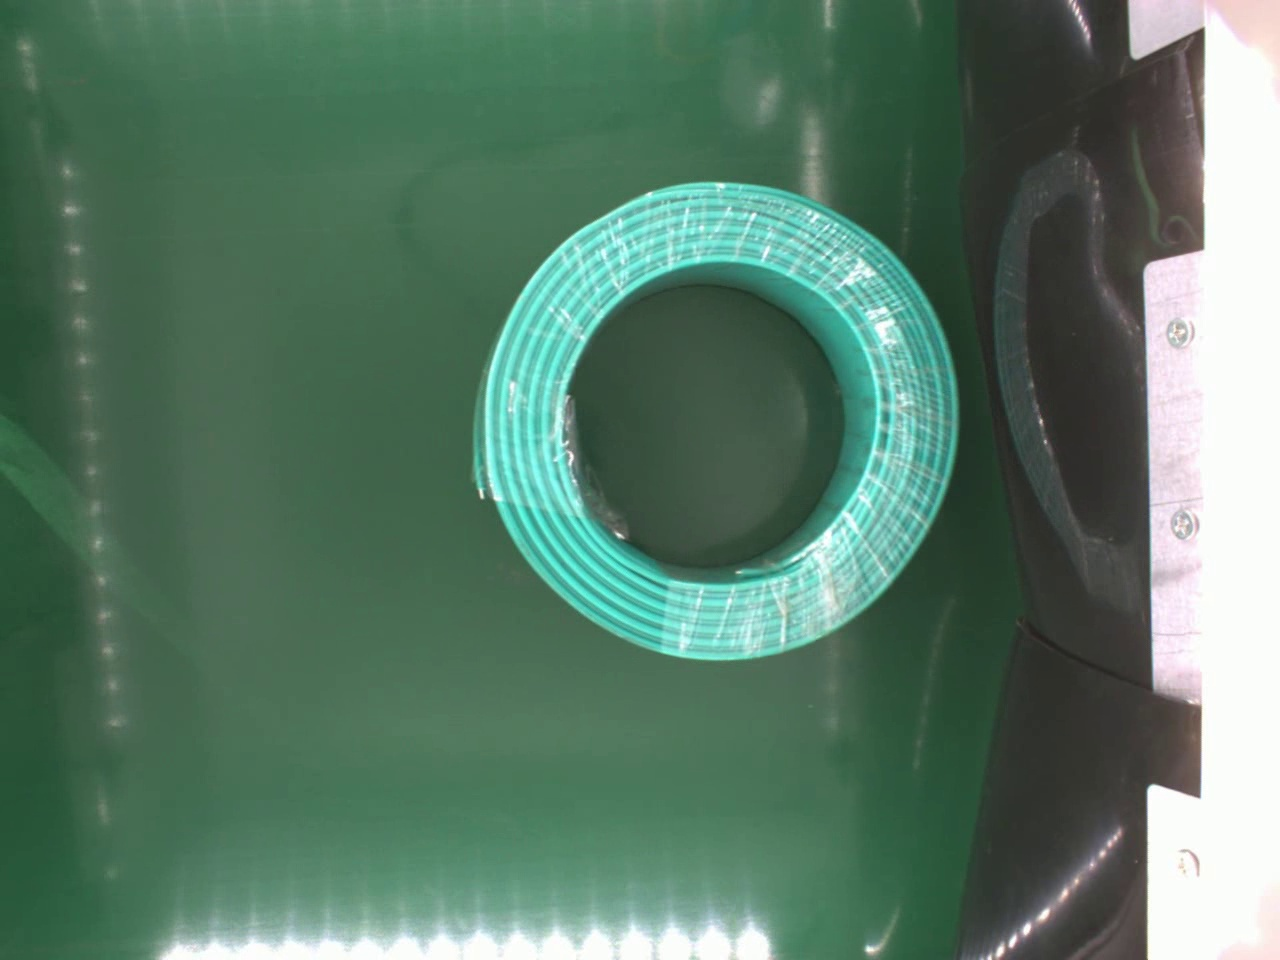green: (471, 175, 963, 670)
